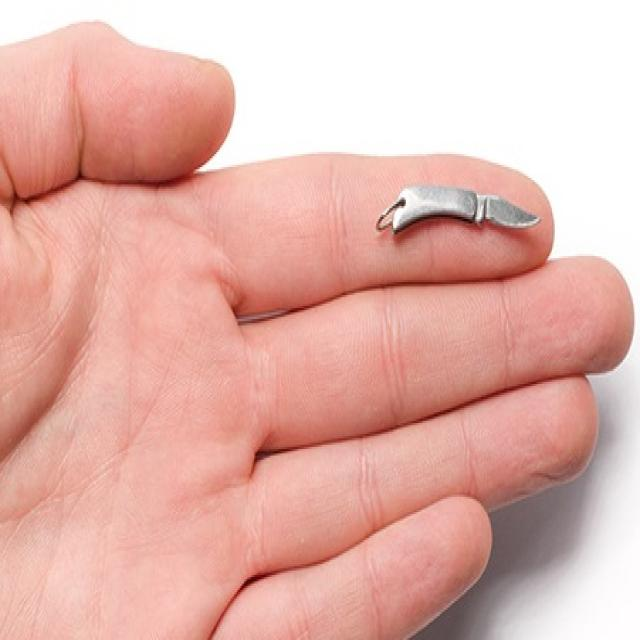knife: (376, 178, 549, 250)
